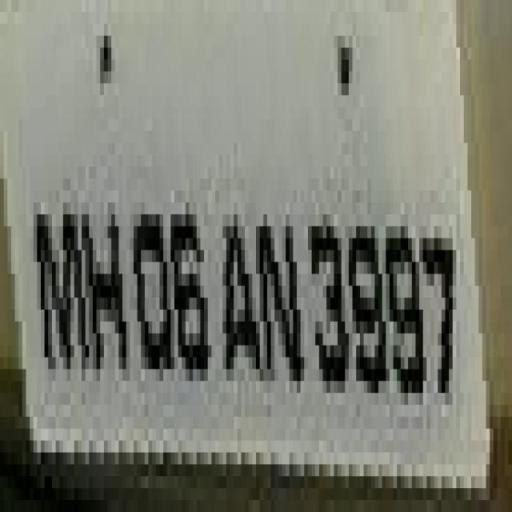number plate: (7, 36, 512, 464)
